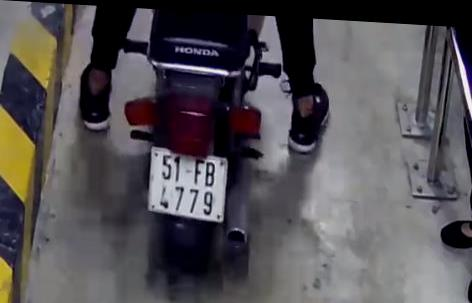License_Plate: (140, 142, 243, 230)
